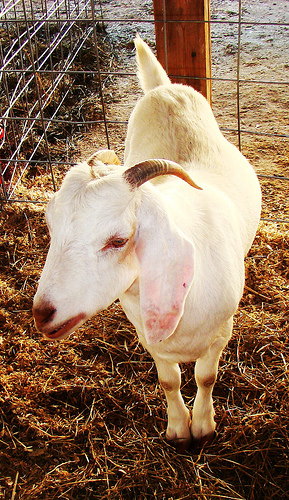goat: (30, 29, 265, 442)
